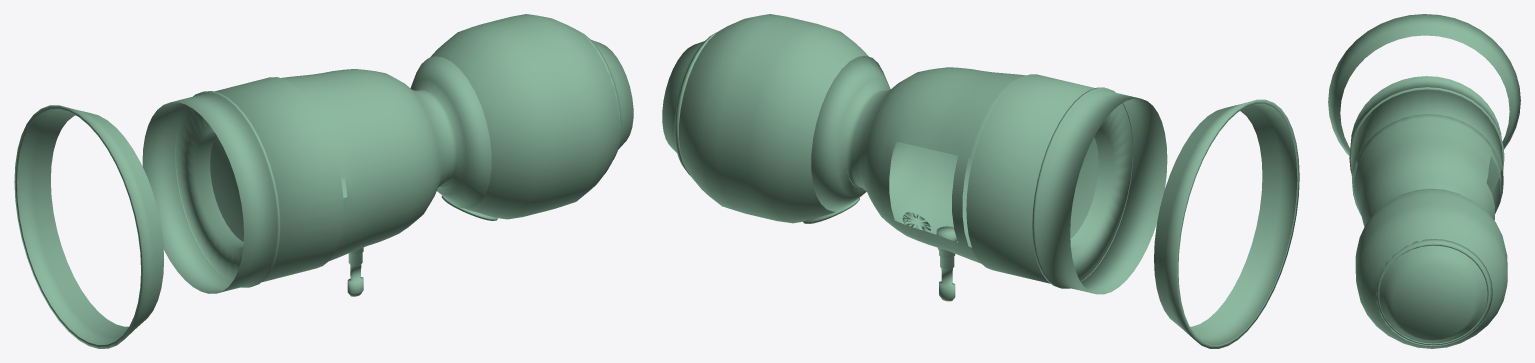
Rendered from Soyuz_lowpoly_10.obj.
3 renders of one model, left to right at view 1: azimuth 30°, elevation 25°; view 2: azimuth 150°, elevation 25°; view 3: azimuth 270°, elevation 25°, orthographic. The views are drawn at different scales.
Size of the model in its own units: 7.65 by 3.45 by 3.1.
